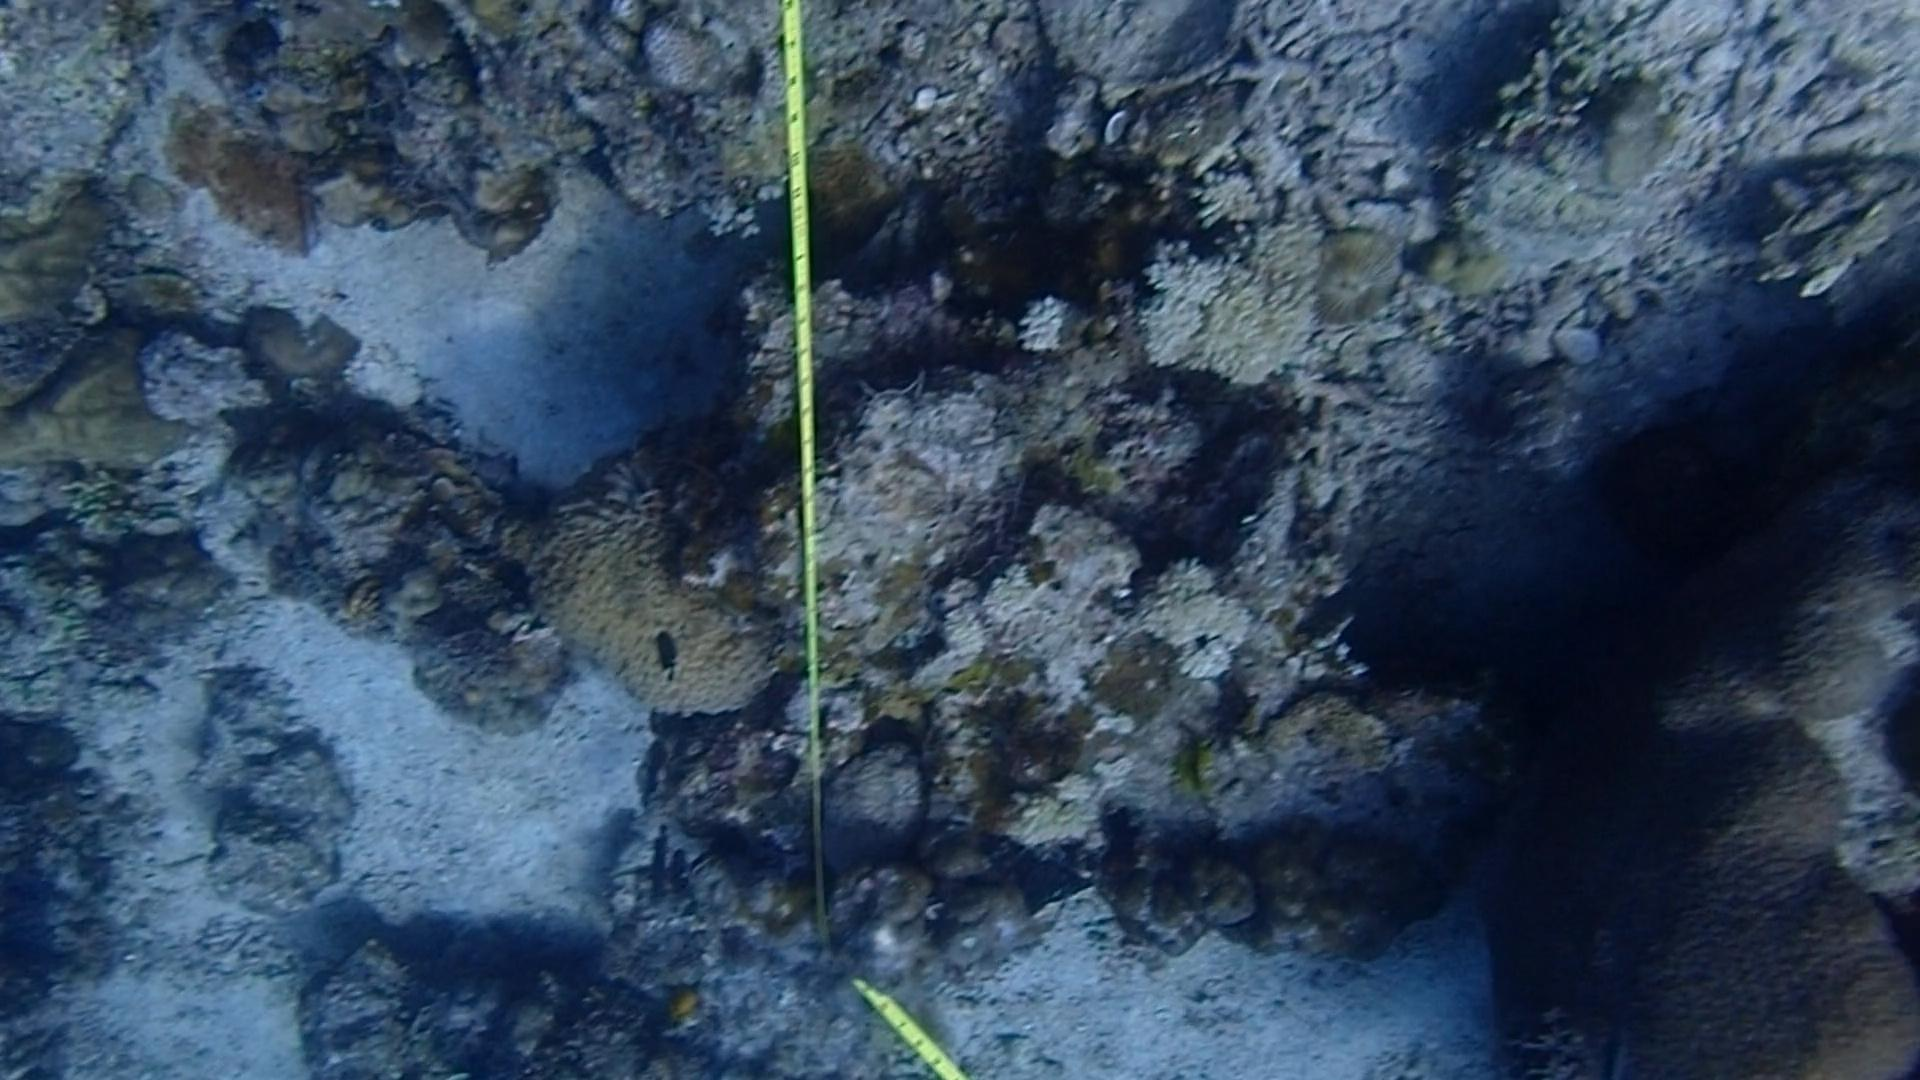Dark Fish: (629, 724, 676, 815), (493, 543, 550, 615), (644, 622, 699, 682), (644, 832, 679, 911), (666, 851, 699, 923)
